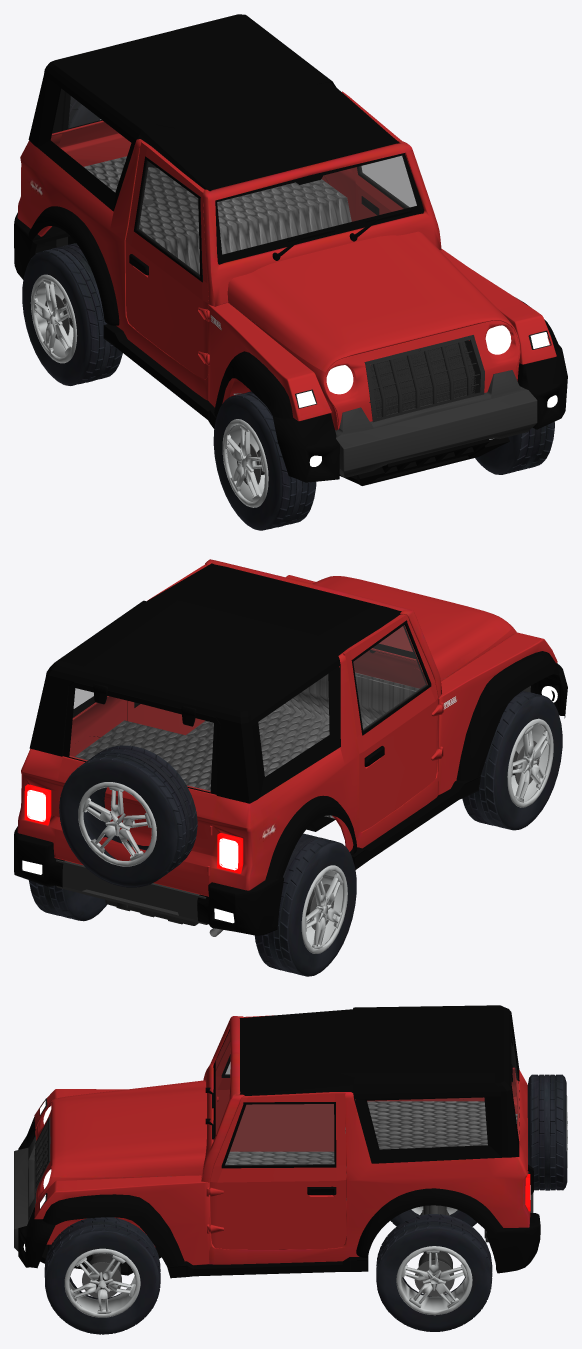
Rendered from thar-og.glb.
The picture shows the model from 3 angles, top to bottom: view 1: azimuth 30°, elevation 25°; view 2: azimuth 150°, elevation 25°; view 3: azimuth 270°, elevation 25°; orthographic projection. The views are drawn at different scales.
Parts seen in each view (by area): view 1: Object_20, Object_16, Object_39, Object_41, Object_31, Object_6, Object_18, Object_45, Object_43, Object_4, Object_34, Object_47 (+11 smaller); view 2: Object_20, Object_31, Object_41, Object_39, Object_18, Object_6, Object_34, Object_47, Object_16, Object_43, Object_4, Object_27 (+5 smaller); view 3: Object_20, Object_31, Object_18, Object_41, Object_16, Object_39, Object_6, Object_47, Object_34, Object_5, Object_43, Object_45 (+9 smaller).
Part boxes in pixels (x1=…): Object_20: x1=28, y1=14, x2=399, y2=428; Object_16: x1=227, y1=231, x2=511, y2=372; Object_39: x1=51, y1=89, x2=416, y2=276; Object_41: x1=17, y1=131, x2=441, y2=400; Object_31: x1=22, y1=96, x2=554, y2=530; Object_6: x1=84, y1=156, x2=503, y2=394; Object_18: x1=125, y1=91, x2=403, y2=379; Object_45: x1=335, y1=370, x2=537, y2=477; Object_43: x1=14, y1=212, x2=567, y2=482; Object_4: x1=208, y1=302, x2=331, y2=421; Object_34: x1=30, y1=119, x2=493, y2=507; Object_47: x1=28, y1=176, x2=558, y2=418; Object_20: x1=29, y1=563, x2=480, y2=869; Object_31: x1=28, y1=690, x2=562, y2=976; Object_41: x1=17, y1=559, x2=442, y2=896; Object_39: x1=69, y1=625, x2=427, y2=791; Object_18: x1=127, y1=564, x2=443, y2=875; Object_6: x1=74, y1=672, x2=419, y2=818; Object_34: x1=78, y1=718, x2=553, y2=953; Object_47: x1=93, y1=651, x2=559, y2=879; Object_16: x1=312, y1=576, x2=512, y2=680; Object_43: x1=14, y1=663, x2=567, y2=935; Object_4: x1=438, y1=632, x2=557, y2=794; Object_27: x1=55, y1=755, x2=215, y2=895; Object_20: x1=167, y1=1005, x2=519, y2=1278; Object_31: x1=44, y1=1074, x2=567, y2=1334; Object_18: x1=206, y1=1015, x2=346, y2=1249; Object_41: x1=201, y1=1016, x2=530, y2=1264; Object_16: x1=50, y1=1080, x2=206, y2=1177; Object_39: x1=216, y1=1032, x2=519, y2=1165; Object_6: x1=156, y1=1101, x2=517, y2=1200; Object_47: x1=42, y1=1188, x2=503, y2=1266; Object_34: x1=64, y1=1095, x2=567, y2=1317; Object_5: x1=34, y1=1175, x2=209, y2=1265; Object_43: x1=18, y1=1117, x2=540, y2=1273; Object_45: x1=14, y1=1136, x2=39, y2=1251.
Bounding box in the file's own units: 14.51 × 13.63 × 28.9.
Materials: 36 (22 with a texture image).
